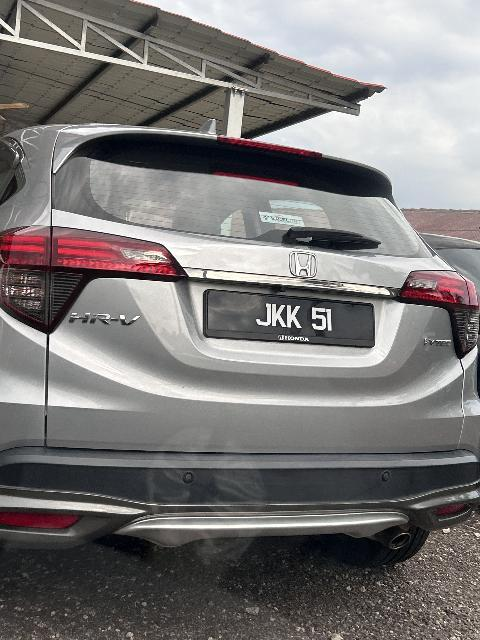JKK51: (204, 287, 378, 352)
License_Plate: (204, 287, 378, 352)
car: (1, 114, 480, 596)
